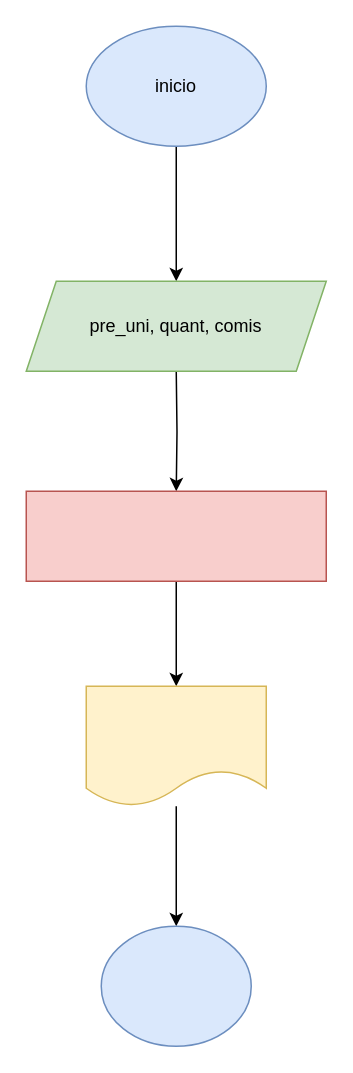
The diagram is 353 pixels wide and 1073 high, and some of its shapes have lost their labels. The shapes that lost their labels are listed below. From the top down, each one's box as (x1, y1, x2, y2) in pixels, then its label:
(25, 490, 326, 581): comis <- quant * pre_uni * (5/100)
(100, 925, 251, 1046): fim
